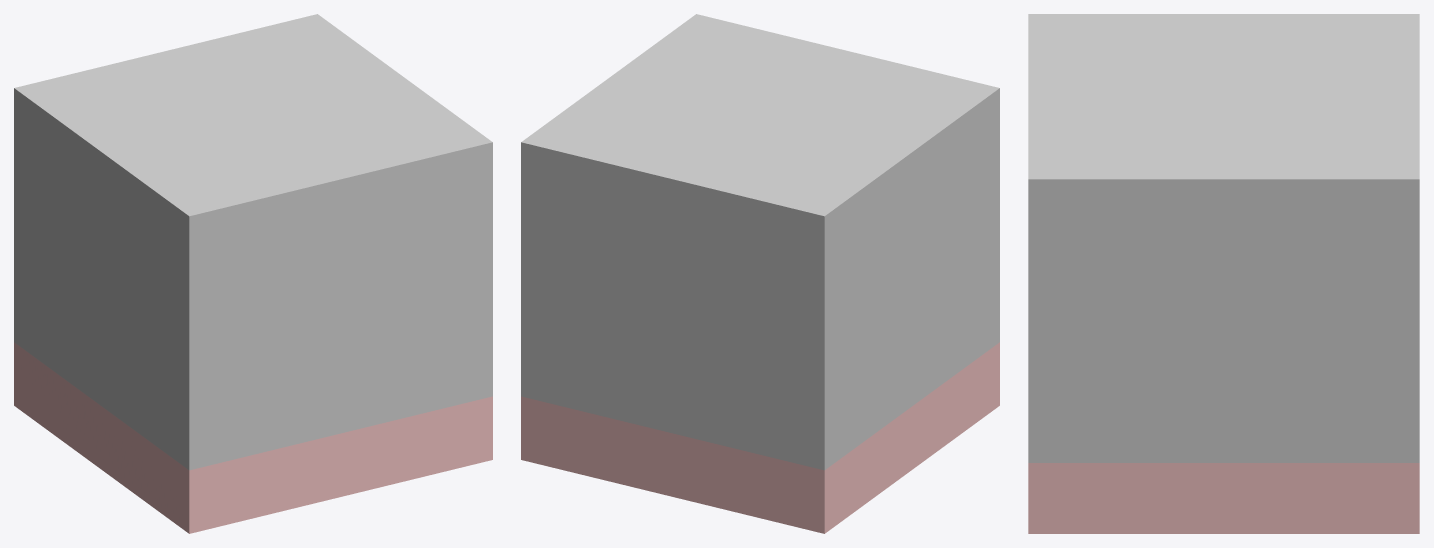
Rendered from whitblock.glb.
3 renders of one model, left to right at view 1: azimuth 30°, elevation 25°; view 2: azimuth 150°, elevation 25°; view 3: azimuth 270°, elevation 25°, orthographic. The views are drawn at different scales.
Visible parts, largest first — view 1: mergedBlocks(Clone); view 2: mergedBlocks(Clone); view 3: mergedBlocks(Clone).
Part boxes in pixels (x1=…): mergedBlocks(Clone): x1=14, y1=14, x2=492, y2=533; mergedBlocks(Clone): x1=521, y1=14, x2=999, y2=533; mergedBlocks(Clone): x1=1028, y1=14, x2=1419, y2=533.
Bounding box in the file's own units: 1 × 1 × 1.
